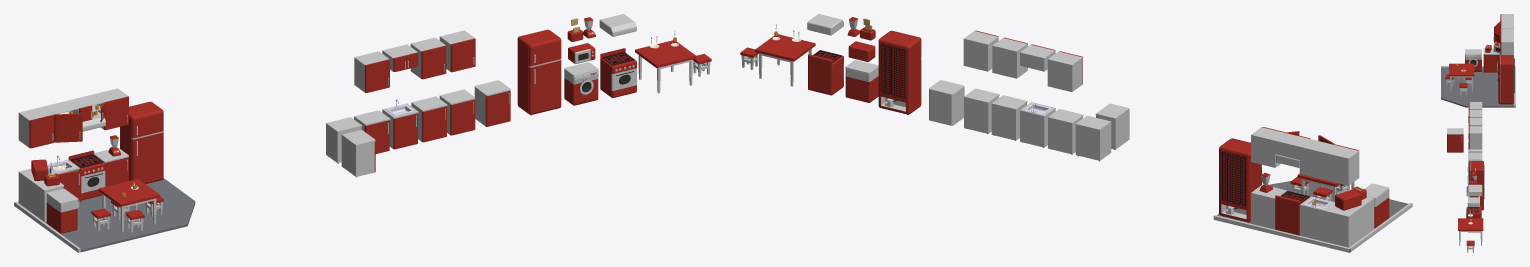
3 views of the same model, side by side, from view 1: azimuth 30°, elevation 25°; view 2: azimuth 150°, elevation 25°; view 3: azimuth 270°, elevation 25° (orthographic). The views are drawn at different scales.
Visible parts, largest first — view 1: Object_3, Object_6, Object_7, Object_2, Object_4, Object_12; view 2: Object_6, Object_3, Object_7, Object_10, Object_4, Object_2, Object_12; view 3: Object_3, Object_6, Object_2, Object_7, Object_10.
Part boxes in pixels (x1,y1,x2,y2): Object_3: (29, 17, 711, 233); Object_6: (15, 14, 710, 252); Object_7: (18, 37, 634, 212); Object_2: (14, 178, 195, 252); Object_4: (564, 72, 598, 105); Object_12: (47, 99, 414, 172); Object_6: (741, 14, 1412, 252); Object_3: (740, 17, 1389, 235); Object_7: (822, 38, 1389, 247); Object_10: (813, 44, 1248, 222); Object_4: (845, 76, 878, 102); Object_2: (1217, 181, 1408, 252); Object_12: (1023, 102, 1331, 209); Object_3: (1445, 14, 1513, 245); Object_6: (1441, 14, 1515, 252); Object_2: (1441, 67, 1514, 107); Object_7: (1465, 49, 1500, 215); Object_10: (1466, 49, 1514, 218).
Bounding box in the file's own units: 304 × 41.74 × 51.43.
